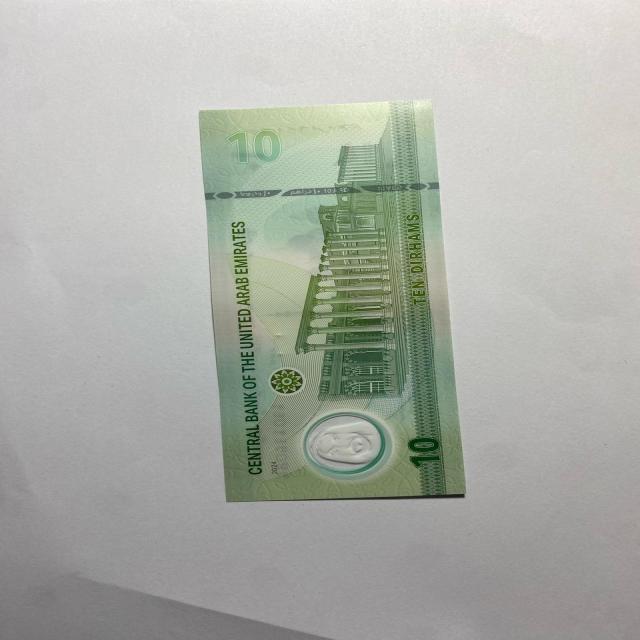10_AED: (198, 101, 471, 502)
